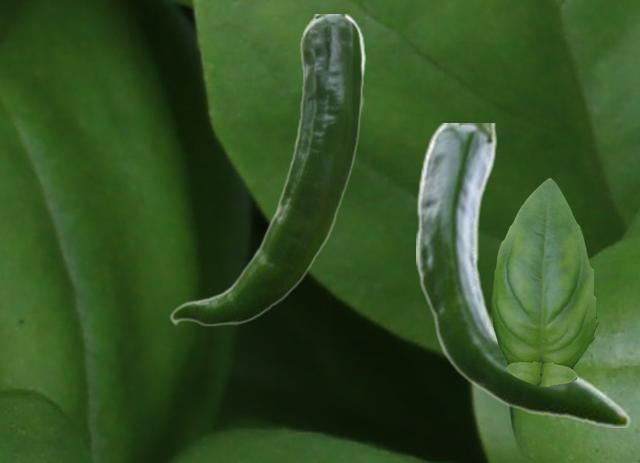green_chili: (416, 123, 630, 426), (169, 14, 365, 326)
